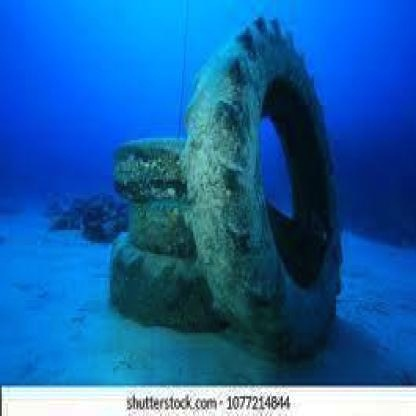tire: (174, 9, 349, 372), (102, 238, 228, 330), (105, 123, 212, 210), (110, 195, 215, 252)
